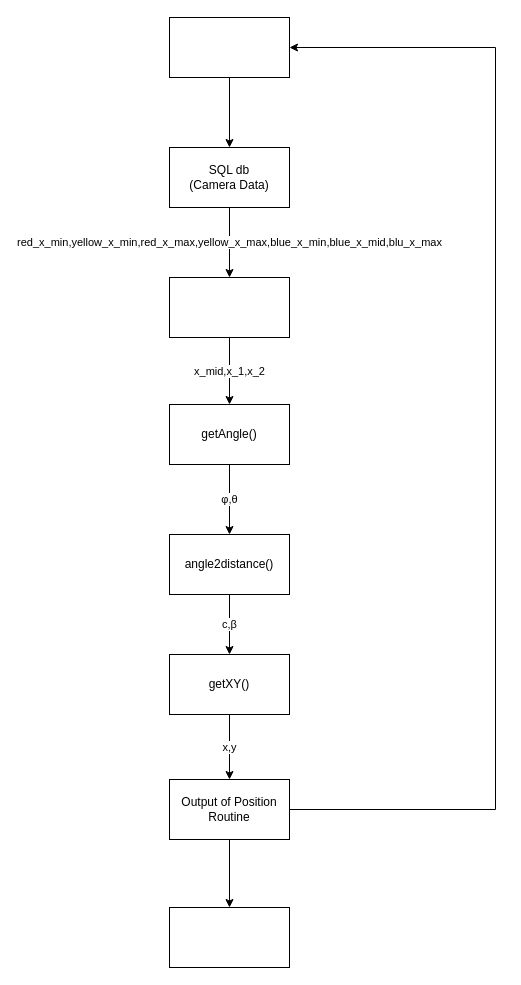
This 521x985 diagram has some shape labels left out. The shapes that lost their labels are listed below. From the top down, each one's centre as x and y in pixels, then its label:
(x=229, y=47): Query
(x=229, y=307): Comparer
(x=229, y=937): Downstream (Decision Making)
